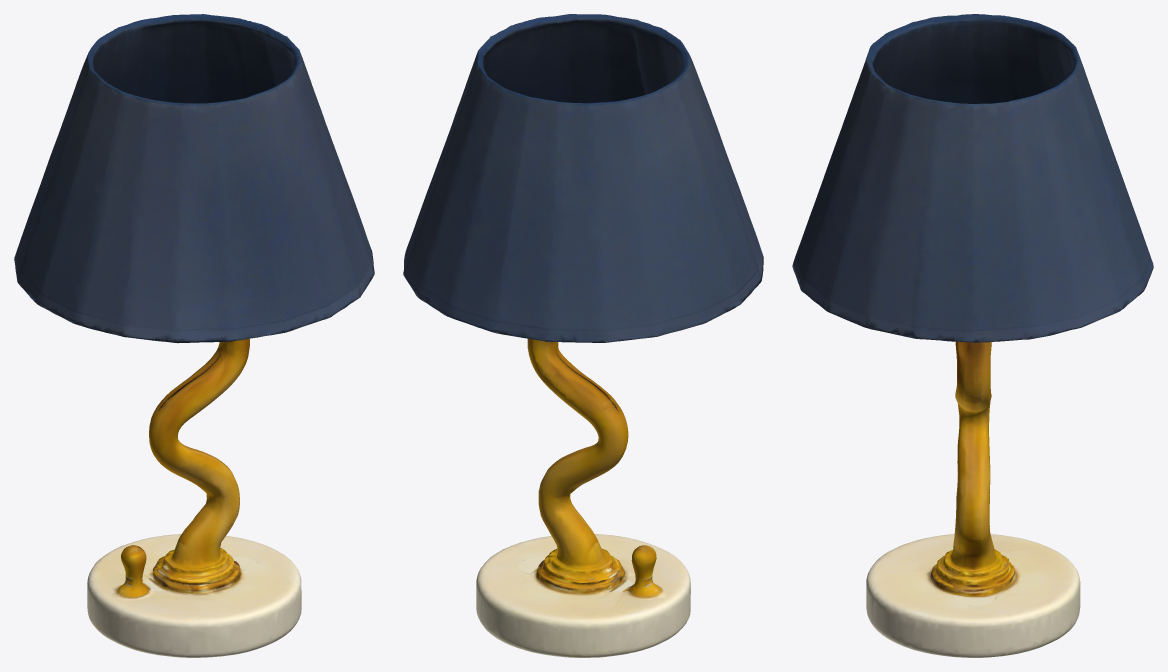
The model's file is Product 3D Model.glb.
3 renders of one model, left to right at view 1: azimuth 30°, elevation 25°; view 2: azimuth 150°, elevation 25°; view 3: azimuth 270°, elevation 25°, orthographic.
Size of the model in its own units: 1.17 by 1.99 by 1.17.
Materials: 1 (1 with a texture image).
